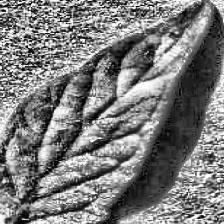leaf mold: (0, 1, 213, 220)
